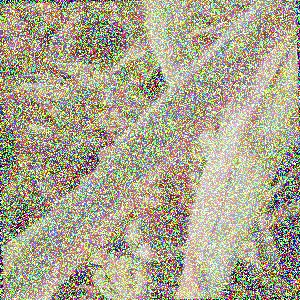Leaf_Blast: (3, 169, 117, 300), (224, 60, 289, 226)
